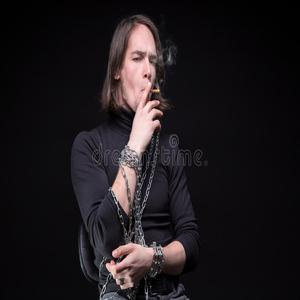cigarette: (148, 89, 162, 93)
